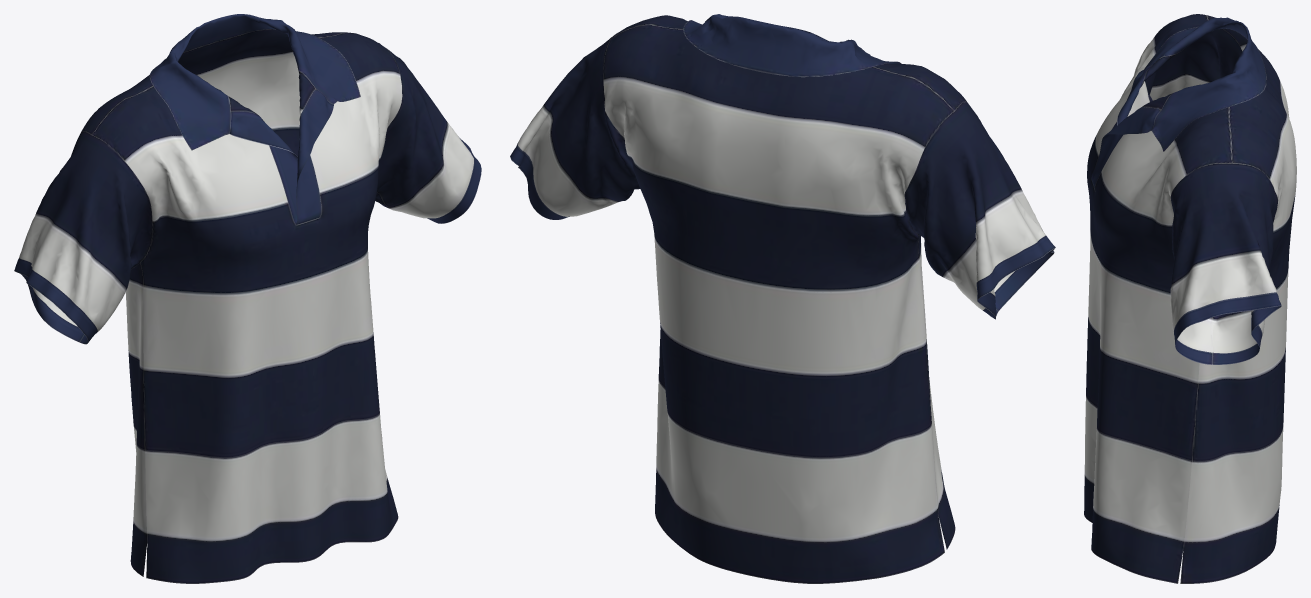
File: polo-rayas-lite.glb
3 renders of one model, left to right at view 1: azimuth 30°, elevation 25°; view 2: azimuth 150°, elevation 25°; view 3: azimuth 270°, elevation 25°, orthographic. The views are drawn at different scales.
Parts seen in each view (by area): view 1: AM_102_035_003_AM_102_035_002_0; view 2: AM_102_035_003_AM_102_035_002_0; view 3: AM_102_035_003_AM_102_035_002_0.
Part boxes in pixels (bbox=[...]): AM_102_035_003_AM_102_035_002_0: bbox=[14, 14, 481, 583]; AM_102_035_003_AM_102_035_002_0: bbox=[510, 14, 1055, 583]; AM_102_035_003_AM_102_035_002_0: bbox=[1084, 14, 1296, 583].
Bounding box in the file's own units: 0.6654 × 0.7 × 0.2715.
1 material, 1 textured.
